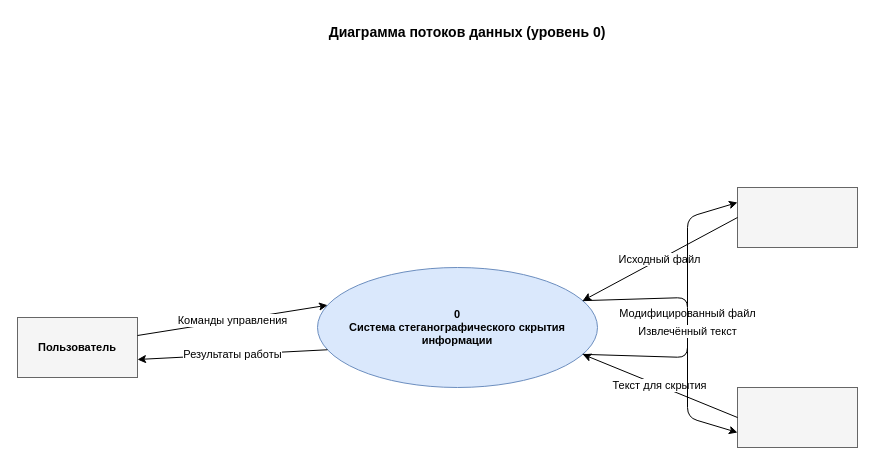
The diagram is 875 pixels wide and 465 high, and some of its shapes have lost their labels. Each missing label, with the centre of its shape:
"Аудиофайлы" goes at pixel 797 217.
"Скрываемое сообщение" goes at pixel 797 417.
